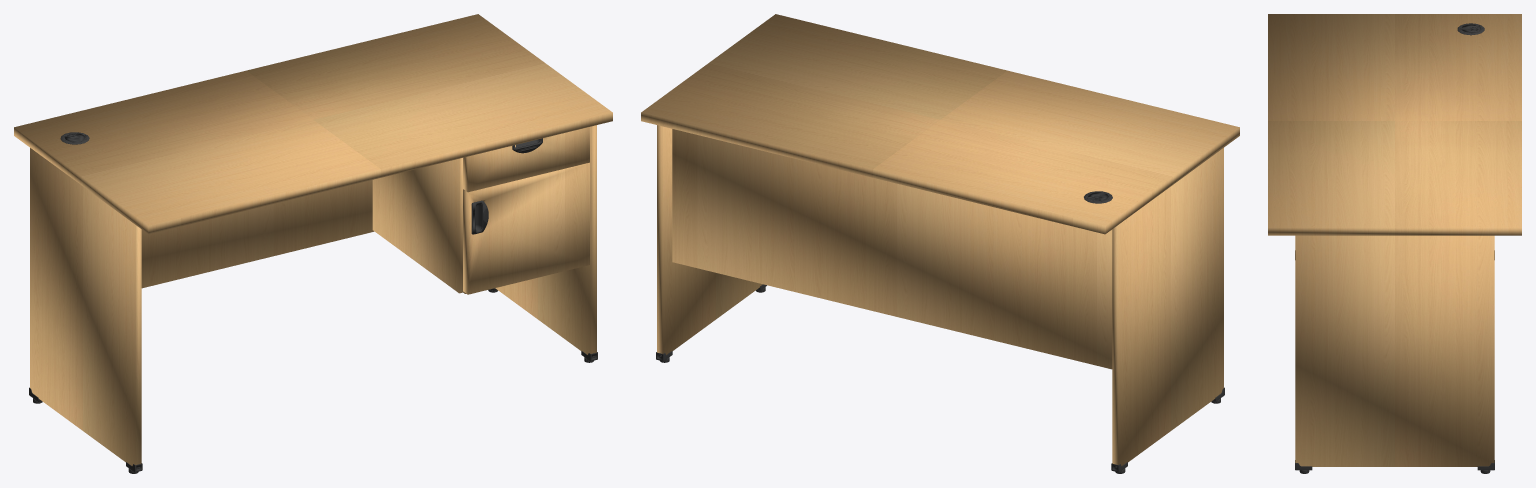
File: ban-lam-viec-sv1400hl.glb
3 renders of one model, left to right at view 1: azimuth 30°, elevation 25°; view 2: azimuth 150°, elevation 25°; view 3: azimuth 270°, elevation 25°, orthographic. The views are drawn at different scales.
Visible parts, largest first — view 1: MB, Layer:DBAO, Layer:Layer1, Layer:Net dam, THANH HOC, Layer:0; view 2: MB, Layer:Net dam, Layer:DBAO; view 3: MB, Layer:DBAO.
Part boxes in pixels (x1,y1,x2,y2): MB: [14, 14, 612, 234]; Layer:DBAO: [30, 125, 596, 465]; Layer:Layer1: [463, 127, 589, 294]; Layer:Net dam: [141, 180, 374, 288]; THANH HOC: [372, 158, 463, 293]; Layer:0: [471, 138, 542, 234]; MB: [641, 14, 1239, 234]; Layer:Net dam: [672, 129, 1112, 369]; Layer:DBAO: [657, 125, 1223, 465]; MB: [1268, 14, 1521, 235]; Layer:DBAO: [1295, 235, 1494, 466].
Size of the model in its own units: 1.39 by 0.7538 by 0.7.
3 materials, 1 textured.
